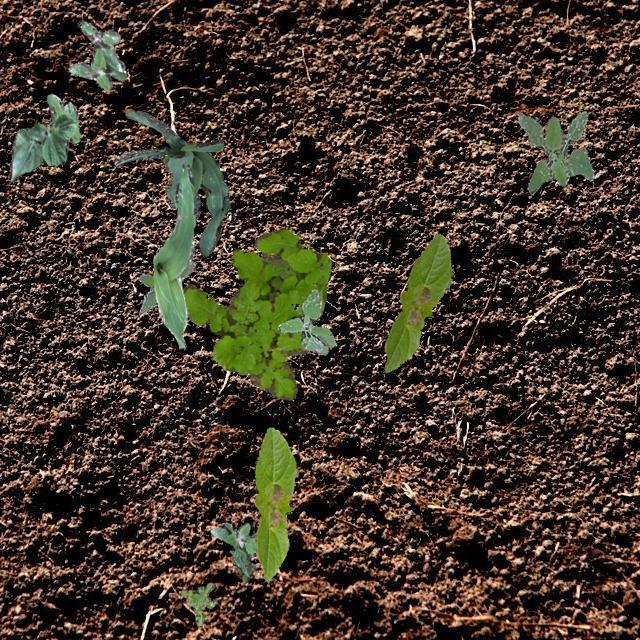crop: (114, 108, 228, 255), (384, 234, 449, 372), (152, 162, 194, 346), (252, 426, 298, 580), (9, 94, 80, 180)
weed: (182, 226, 331, 400), (516, 110, 592, 192), (68, 20, 126, 90), (276, 288, 336, 354), (138, 262, 194, 312), (210, 522, 256, 582), (180, 582, 213, 624)
